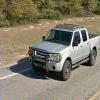Car: (24, 15, 100, 88)
